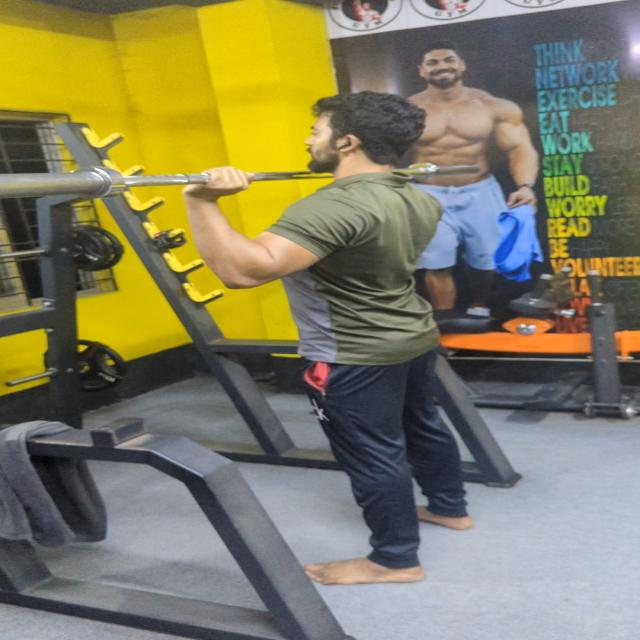Normal_OverheadPress: (81, 73, 640, 632)
